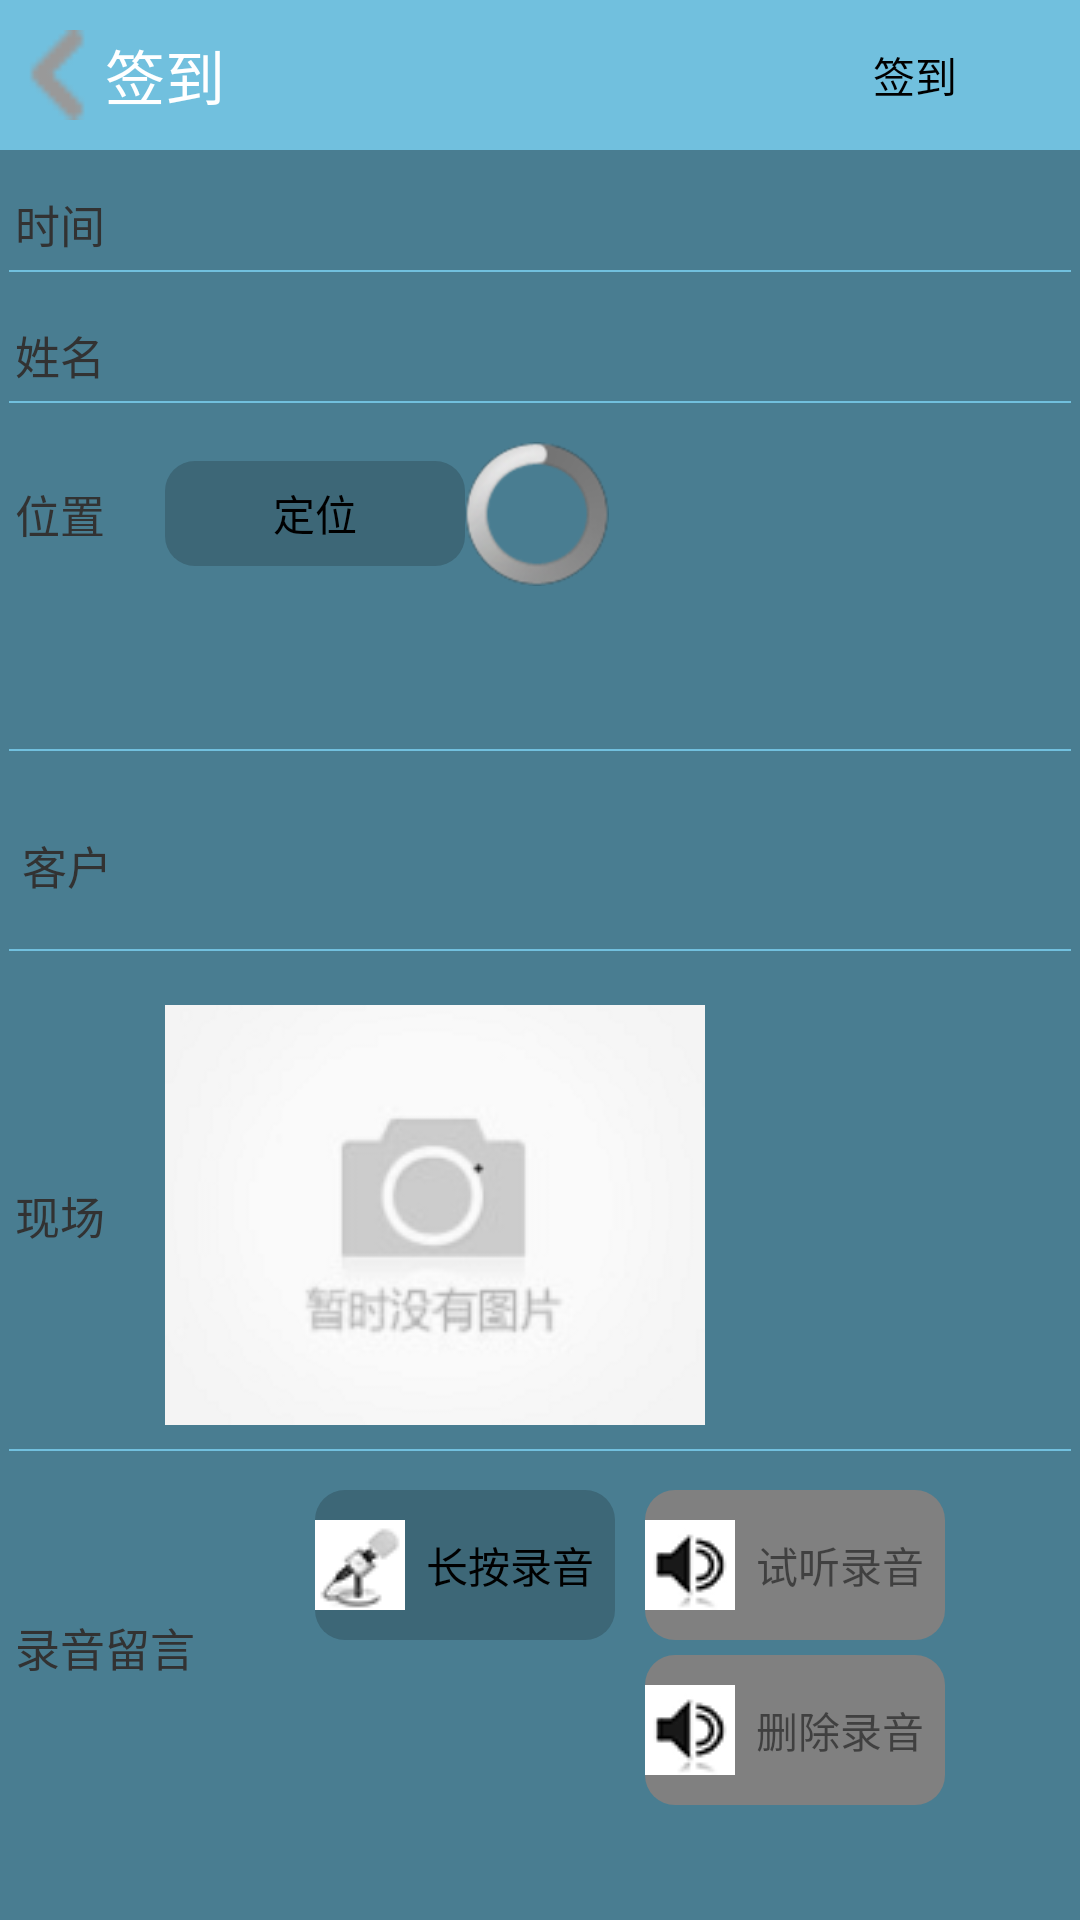

Named icons in this screenshot (1080×1920) and their bounding boxes, Rect(x1, y1, x2, y2):
left: Rect(31, 30, 83, 120)
